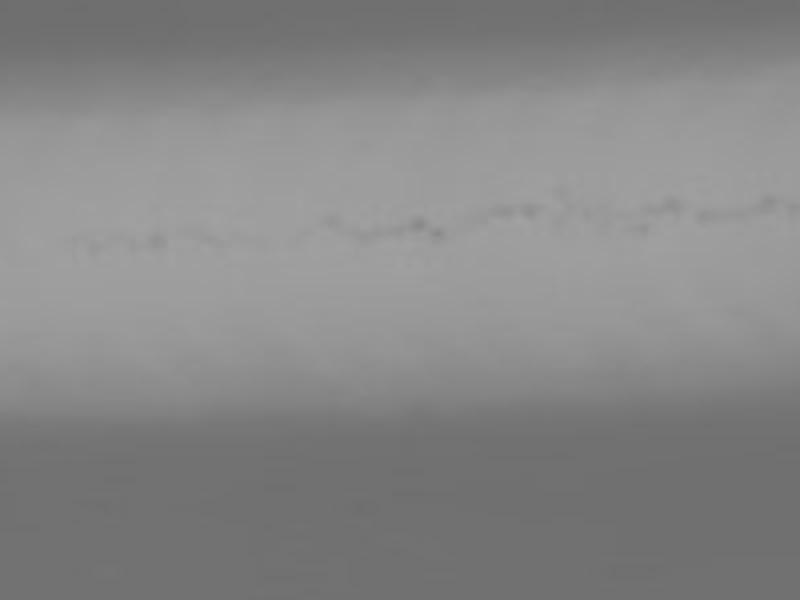defect: (657, 193, 680, 219), (146, 233, 170, 255), (356, 228, 382, 248), (405, 212, 427, 235), (696, 203, 718, 224), (757, 190, 776, 213), (522, 200, 542, 221), (323, 210, 343, 231), (430, 224, 450, 244), (640, 198, 658, 218), (632, 219, 653, 235), (493, 205, 512, 222), (600, 220, 617, 238)
